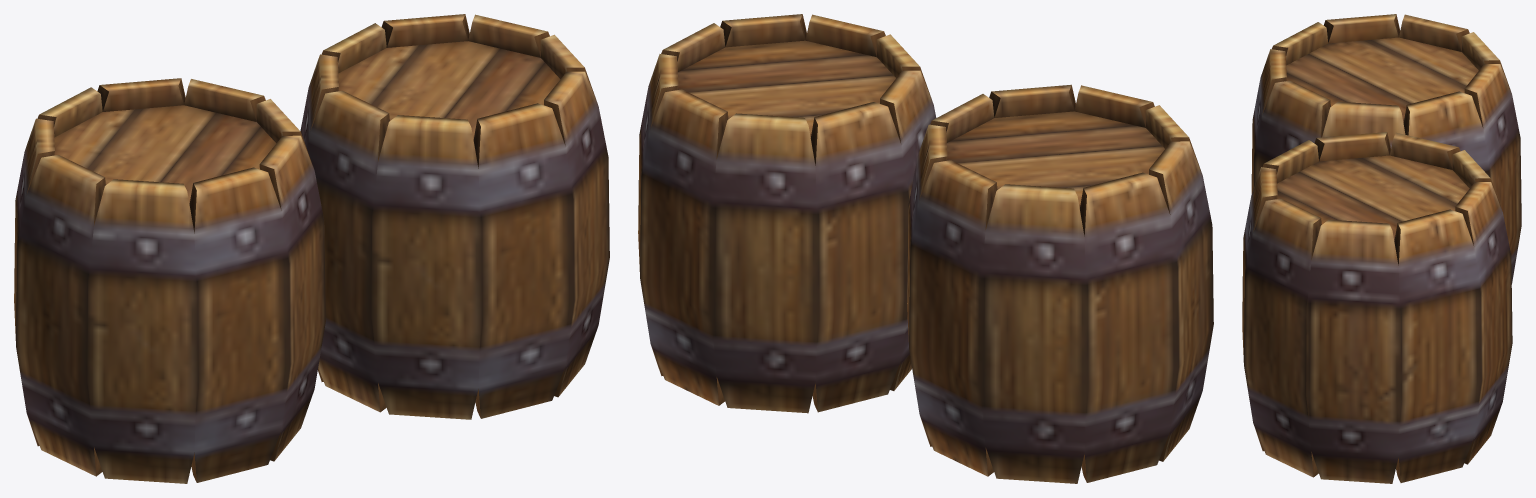
Rendered from Area_10_16.fbx.
3 renders of one model, left to right at view 1: azimuth 30°, elevation 25°; view 2: azimuth 150°, elevation 25°; view 3: azimuth 270°, elevation 25°, orthographic. The views are drawn at different scales.
Parts seen in each view (by area): view 1: Area_10_16; view 2: Area_10_16; view 3: Area_10_16.
Boxes of the visible parts, x1,y1,x2,y2 form: Area_10_16: (14, 14, 609, 483); Area_10_16: (638, 14, 1213, 483); Area_10_16: (1242, 14, 1521, 483).
Size of the model in its own units: 226 by 114 by 114.
